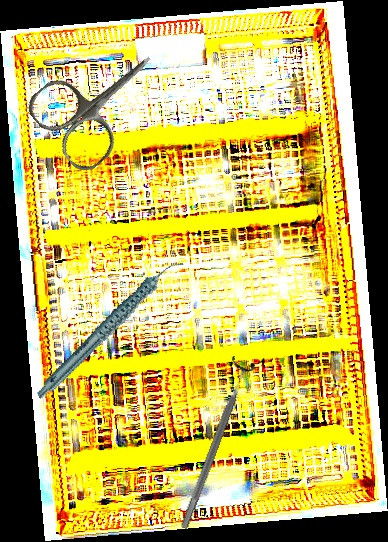Fixation Ring: (170, 355, 259, 533)
Handpiece: (14, 257, 206, 400)
Iris Scissors: (21, 22, 182, 178)
